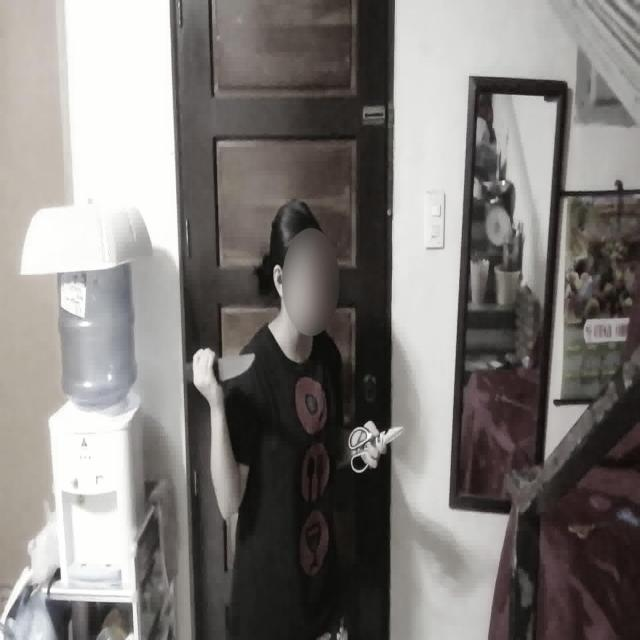scissor: (349, 423, 405, 476)
